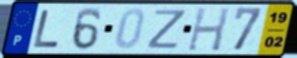0: (113, 7, 149, 52)
6: (72, 6, 104, 52)
7: (233, 6, 264, 53)
H: (185, 6, 232, 53)
L: (32, 8, 63, 49)
Z: (145, 8, 189, 50)
